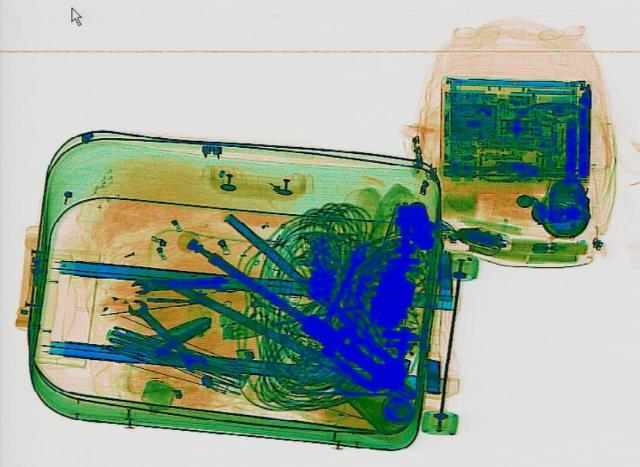Pliers: (138, 210, 442, 417)
Wrench: (118, 295, 212, 374), (127, 272, 231, 294)
